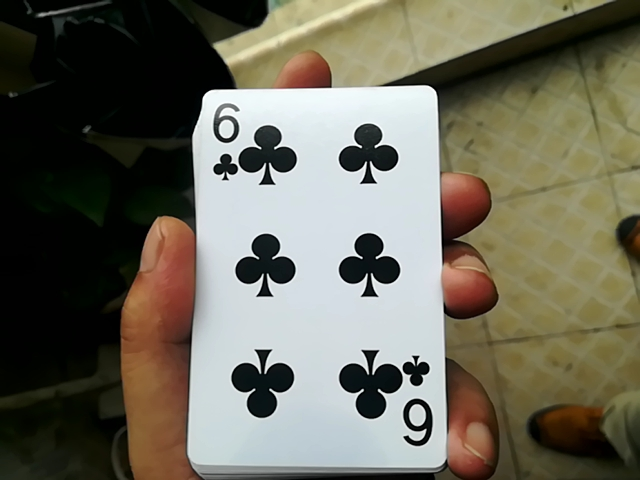mh 6: (176, 84, 449, 468)
